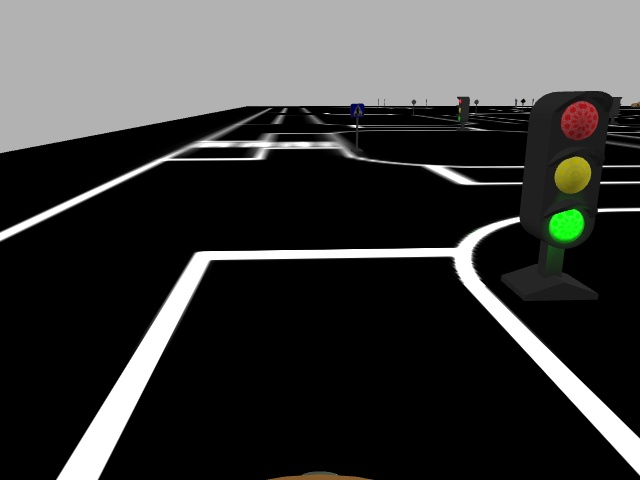green_light: (530, 91, 611, 255)
